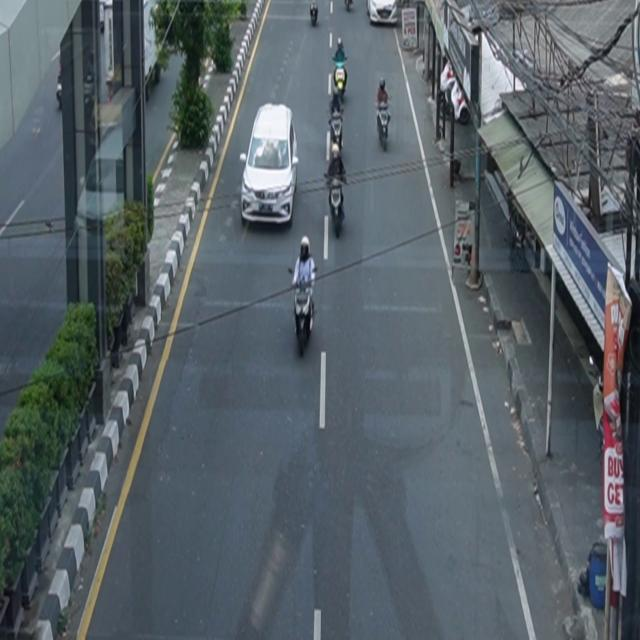car: (240, 103, 300, 228), (367, 1, 398, 26)
